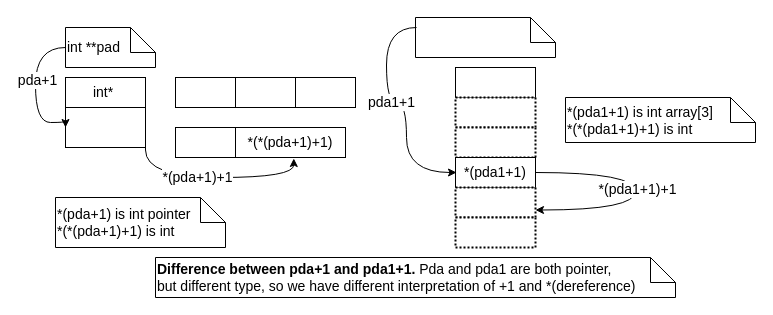
Some shapes in this 773 by 315 pixel diagram are drawn without their labels. The centre of each missing label's shape, as x and y in pixels:
*(pda+1): the point at 105,127
int (*pda1)[3]: the point at 485,37
